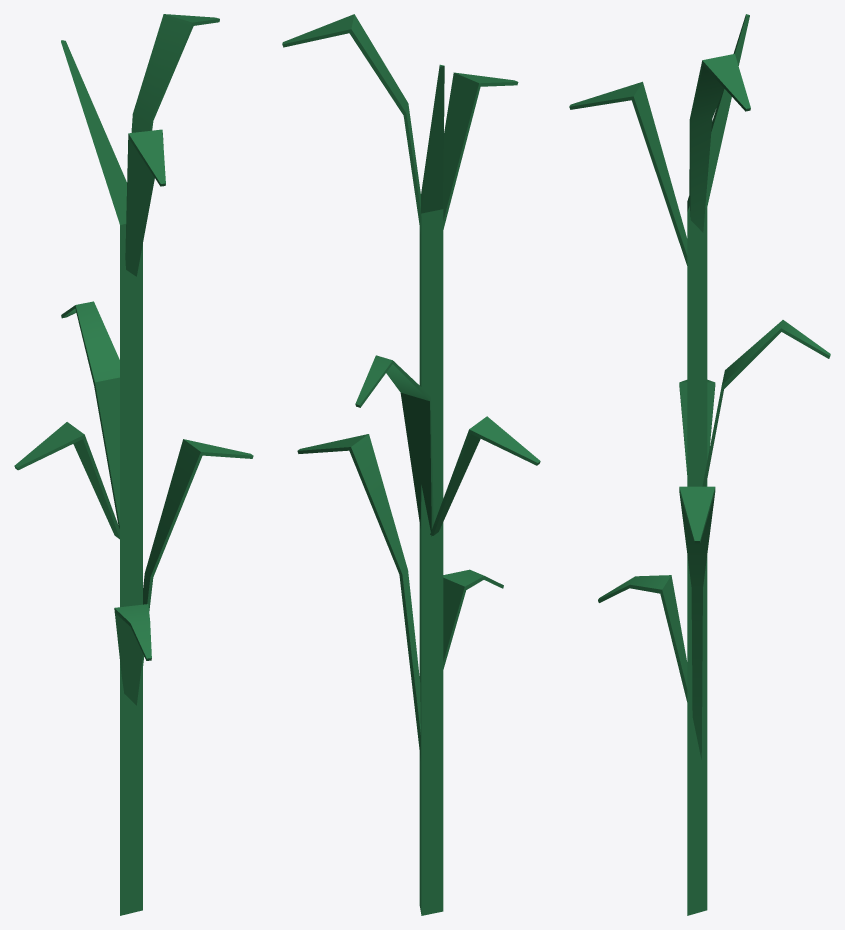
File: long_plant_1.FBX
3 renders of one model, left to right at view 1: azimuth 30°, elevation 25°; view 2: azimuth 150°, elevation 25°; view 3: azimuth 270°, elevation 25°, orthographic.
Visible parts, largest first — view 1: Long_plant; view 2: Long_plant; view 3: Long_plant.
Part boxes in pixels (x1,y1,x2,y2): Long_plant: (14,14,253,915); Long_plant: (282,14,540,915); Long_plant: (569,14,830,915).
Bounding box in the file's own units: 0.3119 × 1.09 × 0.2934.
1 material, 1 textured.
